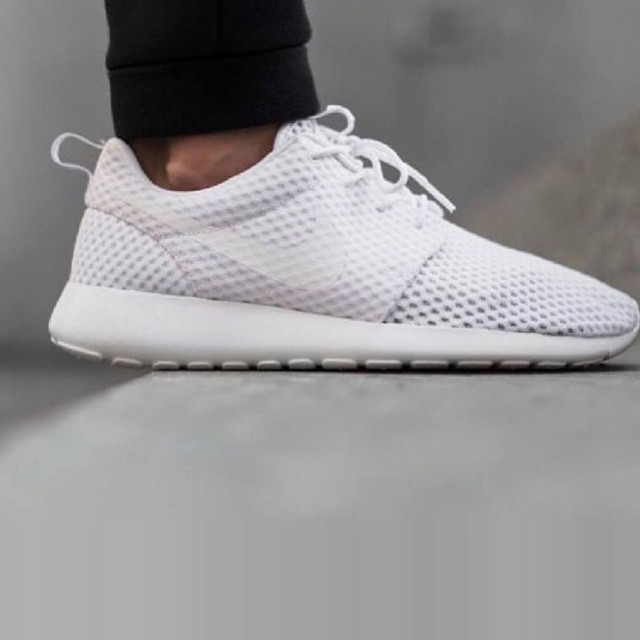sneaker: (11, 71, 640, 391)
